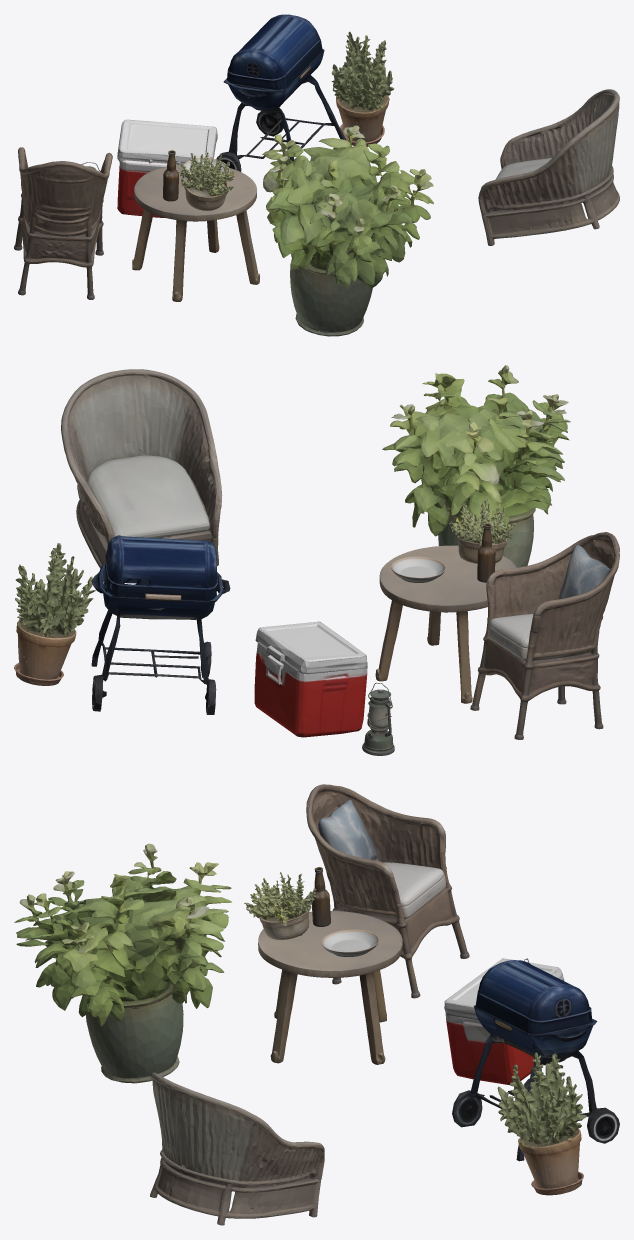
3 renders of one model, top to bottom at view 1: azimuth 30°, elevation 25°; view 2: azimuth 150°, elevation 25°; view 3: azimuth 270°, elevation 25°, orthographic. The views are drawn at different scales.
Parts seen in each view (by area): view 1: obj_5_part_0, obj_2_part_0, obj_3_part_0, obj_4_part_0, obj_0_part_1, obj_6_part_0, obj_0_part_0, obj_1_part_1, obj_7_part_0, obj_1_part_0, obj_9_part_0; view 2: obj_2_part_0, obj_5_part_0, obj_3_part_0, obj_4_part_0, obj_1_part_0, obj_6_part_0, obj_0_part_1, obj_0_part_0, obj_1_part_1, obj_7_part_0, obj_10_part_0, obj_8_part_0 (+1 smaller); view 3: obj_5_part_0, obj_2_part_0, obj_3_part_0, obj_4_part_0, obj_6_part_0, obj_0_part_1, obj_0_part_0, obj_1_part_0, obj_7_part_0, obj_1_part_1, obj_8_part_0, obj_9_part_0.
Boxes of the visible parts, bbox=[...] form: obj_5_part_0: bbox=[262, 125, 433, 336]; obj_2_part_0: bbox=[478, 89, 619, 245]; obj_3_part_0: bbox=[14, 147, 112, 299]; obj_4_part_0: bbox=[132, 164, 259, 301]; obj_0_part_1: bbox=[227, 14, 323, 91]; obj_6_part_0: bbox=[331, 31, 394, 146]; obj_0_part_0: bbox=[216, 49, 346, 171]; obj_1_part_1: bbox=[117, 119, 217, 164]; obj_7_part_0: bbox=[178, 152, 234, 210]; obj_1_part_0: bbox=[117, 160, 176, 217]; obj_9_part_0: bbox=[163, 150, 178, 201]; obj_2_part_0: bbox=[61, 369, 222, 581]; obj_5_part_0: bbox=[382, 365, 570, 567]; obj_3_part_0: bbox=[470, 532, 619, 739]; obj_4_part_0: bbox=[375, 545, 516, 703]; obj_1_part_0: bbox=[254, 641, 367, 737]; obj_6_part_0: bbox=[14, 543, 95, 685]; obj_0_part_1: bbox=[104, 535, 217, 602]; obj_0_part_0: bbox=[91, 563, 230, 714]; obj_1_part_1: bbox=[255, 621, 367, 674]; obj_7_part_0: bbox=[449, 497, 515, 563]; obj_10_part_0: bbox=[362, 682, 394, 755]; obj_8_part_0: bbox=[391, 556, 445, 582]; obj_5_part_0: bbox=[14, 843, 231, 1083]; obj_2_part_0: bbox=[150, 1072, 324, 1225]; obj_3_part_0: bbox=[306, 784, 469, 998]; obj_4_part_0: bbox=[258, 911, 402, 1064]; obj_6_part_0: bbox=[497, 1052, 586, 1195]; obj_0_part_1: bbox=[475, 960, 593, 1035]; obj_0_part_0: bbox=[452, 1005, 619, 1161]; obj_1_part_0: bbox=[445, 1012, 534, 1085]; obj_7_part_0: bbox=[244, 872, 316, 939]; obj_1_part_1: bbox=[444, 958, 564, 1019]; obj_8_part_0: bbox=[321, 929, 379, 956]; obj_9_part_0: bbox=[311, 867, 330, 926].
Size of the model in its own units: 2.22 by 0.7004 by 1.89.
5 materials, 4 textured.
